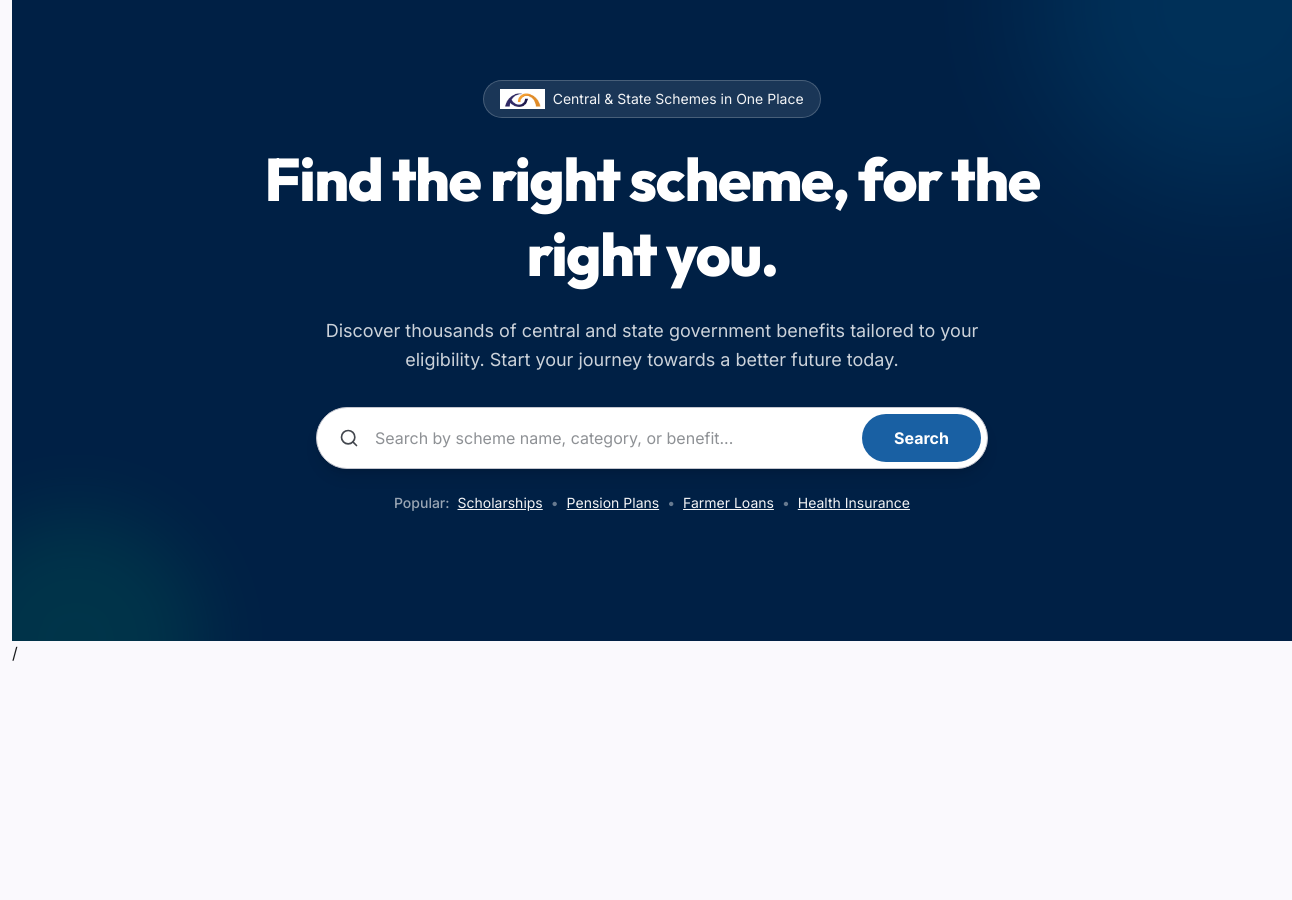
Test: the home page search box and chips open Search, not the login page › the farmerLoans chip opens that topic
Click the button "Farmer Loans" at point(728, 502), box [683,492,774,512]
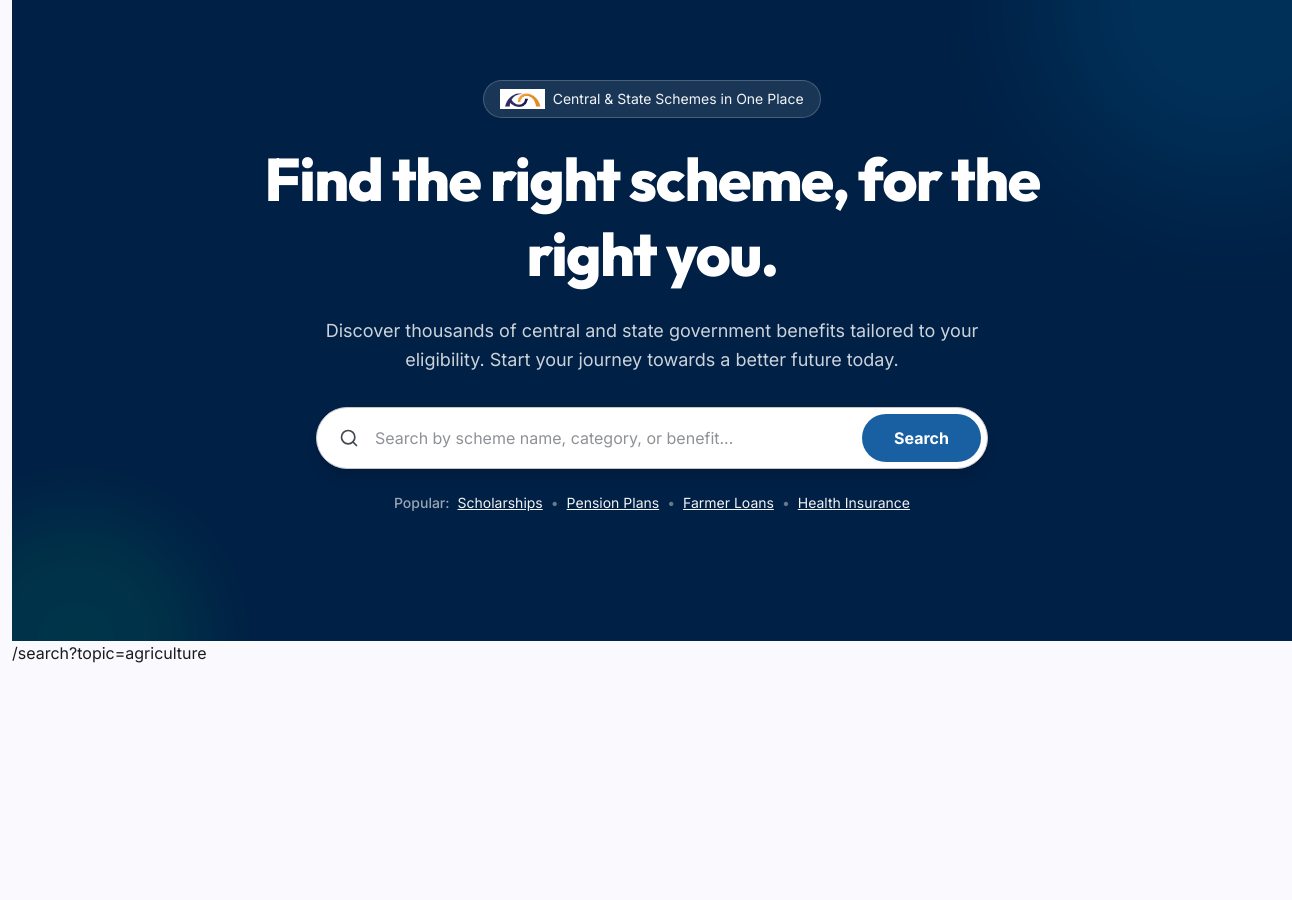
Now the text with test id "where" reads "/search?topic=agriculture", box [12,642,207,662]
